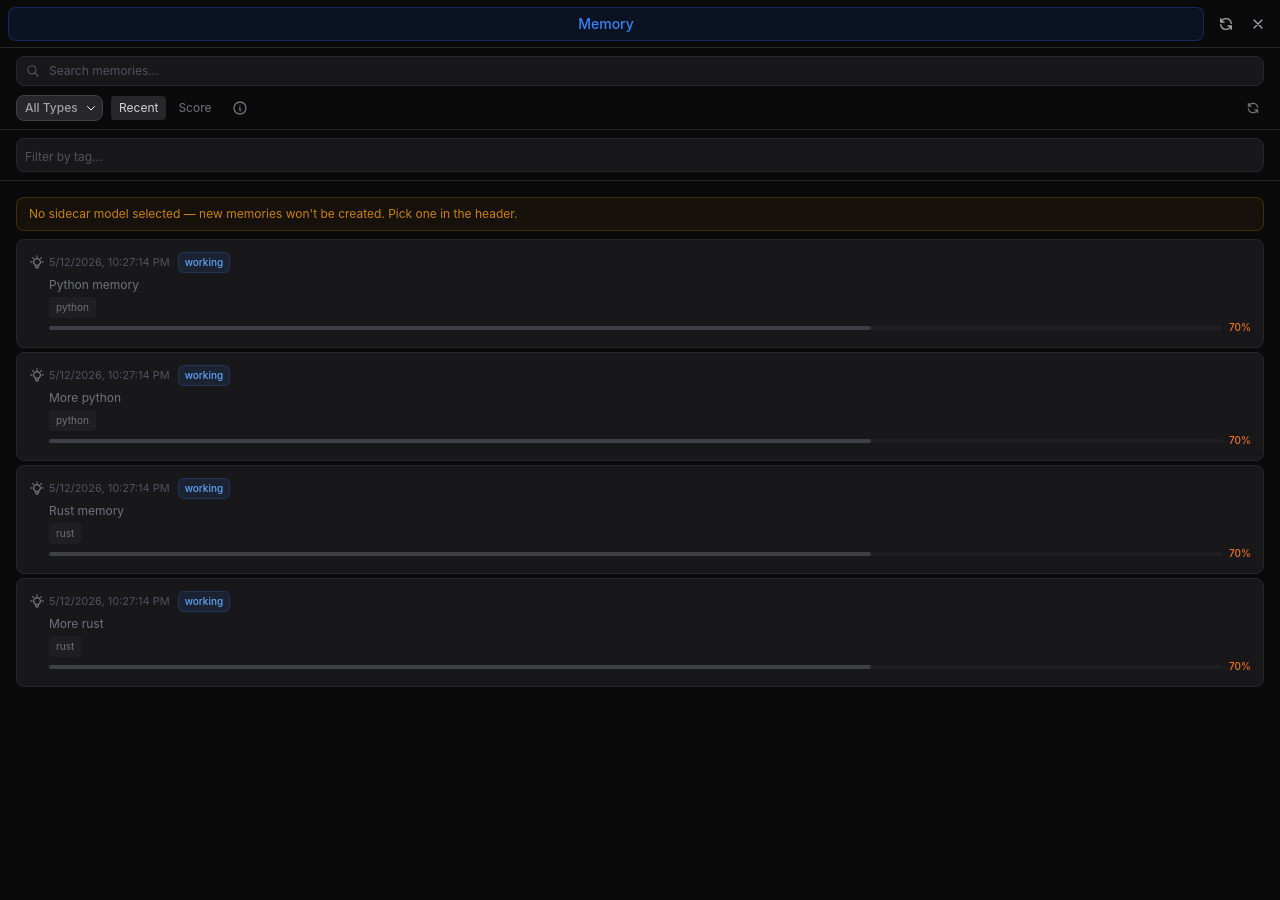
MemoryPanelV2 › Tag Filtering › clears all tag filters when the X button is clicked
In the field with placeholder "Filter by tag...": (640, 157) [25,147,1255,167], type "py"
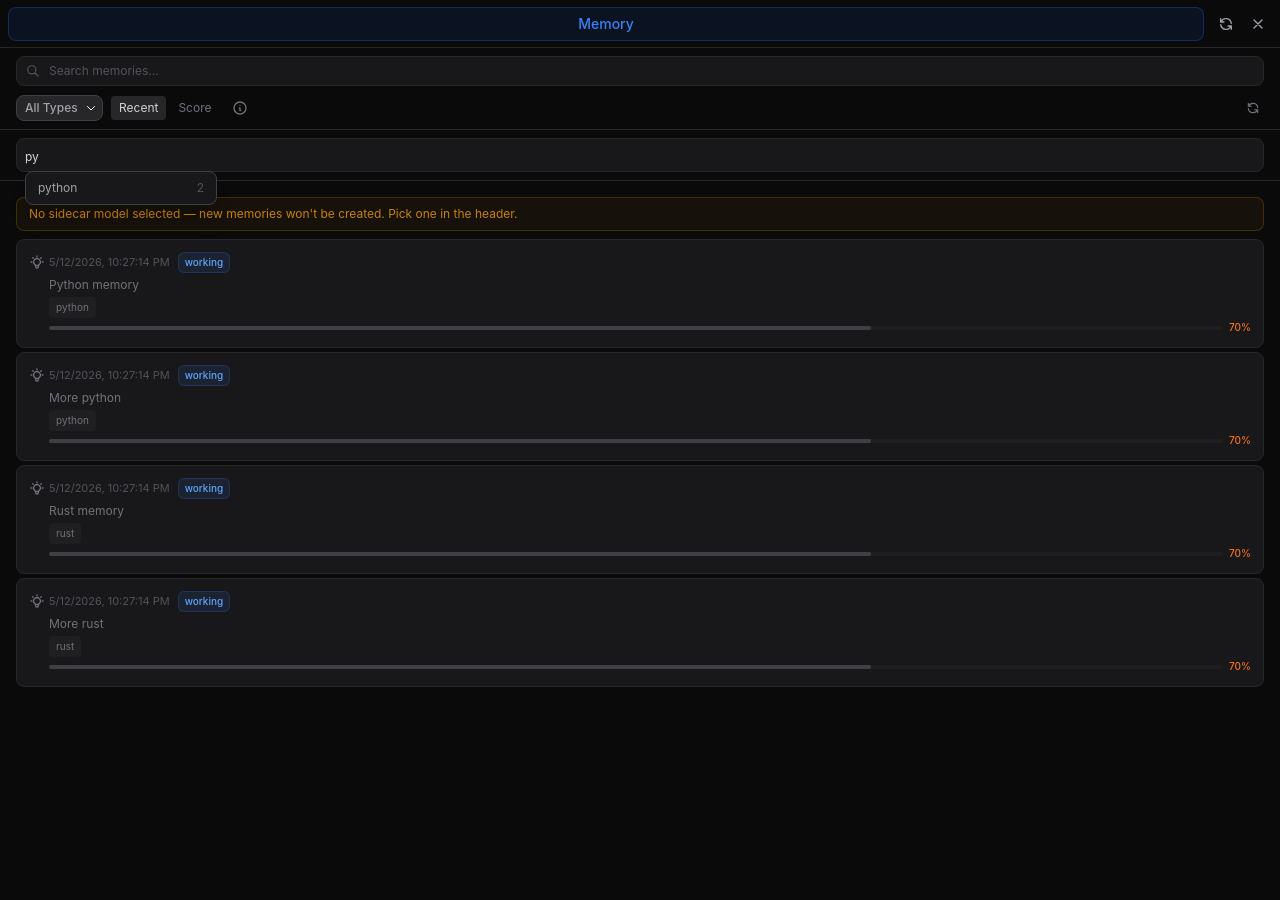
Press the mouse on the button "python 2": (121, 188) [26,176,216,200]
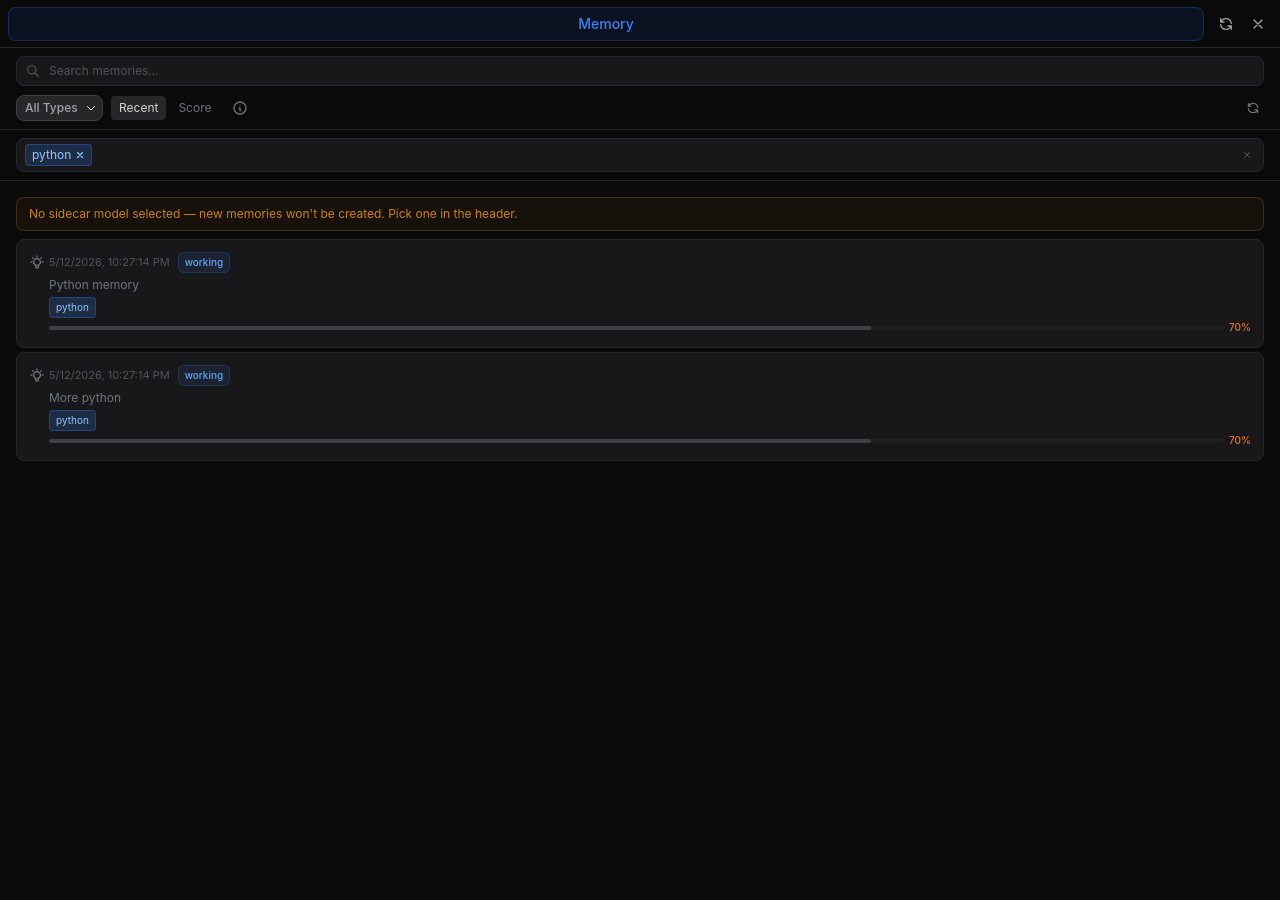
Result: the text "Rust memory" is gone
Click the button titled "Clear all tags": (1247, 155) [1239,147,1255,163]
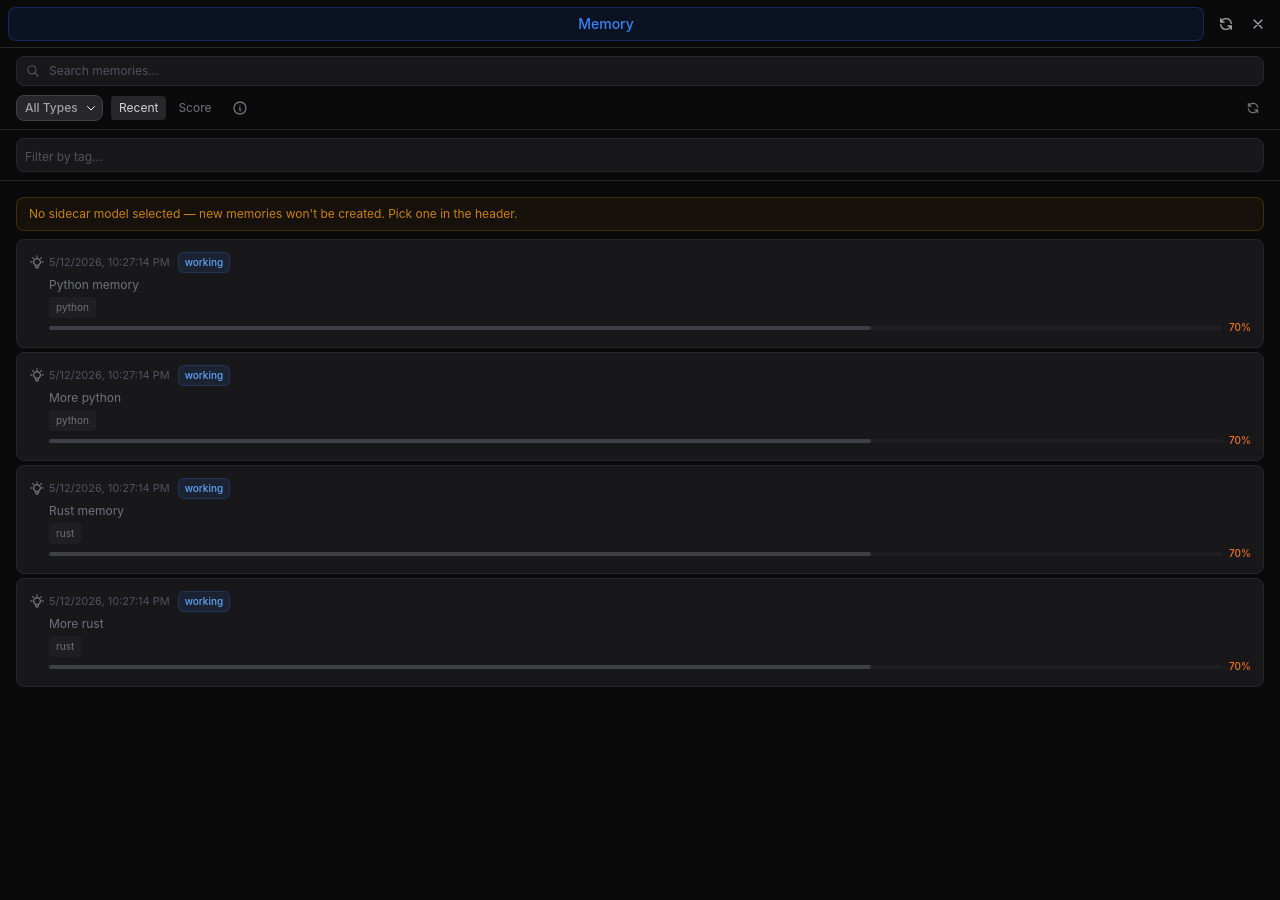
Expected: the text "Python memory" is shown, [49,277,139,292]
Result: the text "Rust memory" is shown at [49,503,124,518]
